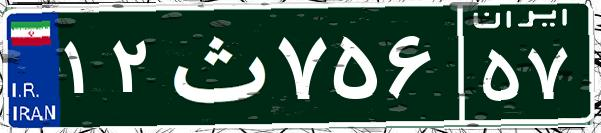1: (57, 26, 110, 107)
2: (110, 28, 158, 105)
5: (330, 28, 385, 110), (475, 38, 525, 113)
6: (385, 28, 445, 110)
7: (273, 28, 330, 110), (525, 38, 570, 115)
ث: (158, 15, 273, 115)
